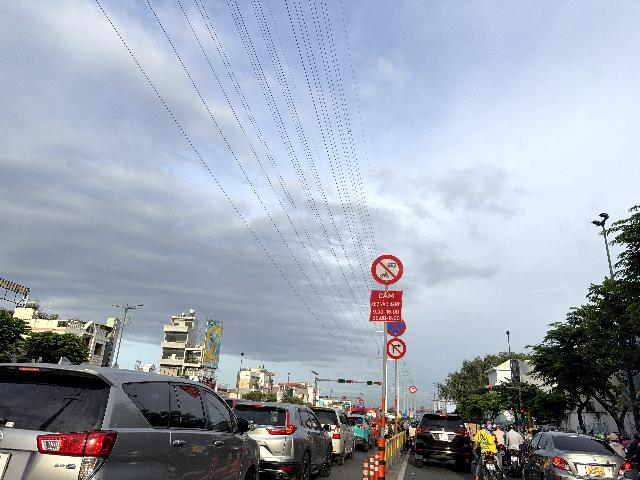cam-re-phai: (386, 338, 406, 360)
cam-xe-2-banh-3-banh: (372, 254, 403, 284)
